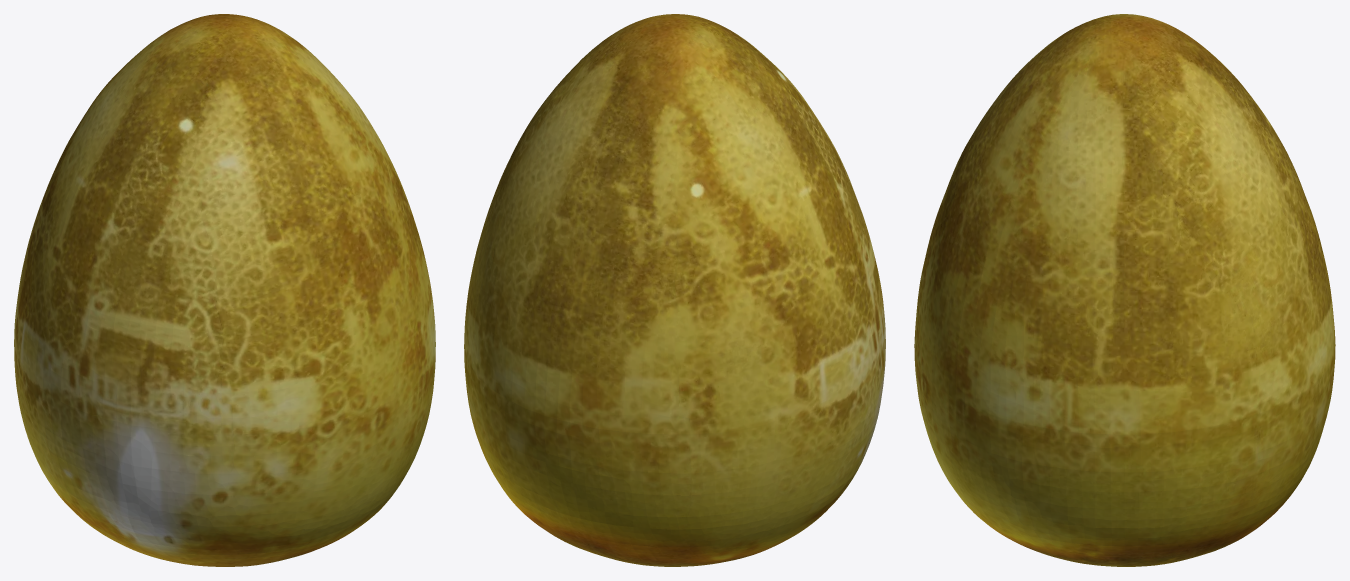
The picture shows the model from 3 angles, left to right: view 1: azimuth 30°, elevation 25°; view 2: azimuth 150°, elevation 25°; view 3: azimuth 270°, elevation 25°; orthographic projection.
Visible parts, largest first — view 1: geometry_0; view 2: geometry_0; view 3: geometry_0.
Boxes of the visible parts, x1,y1,x2,y2 form: geometry_0: [14, 14, 435, 566]; geometry_0: [464, 14, 885, 566]; geometry_0: [914, 14, 1335, 566].
Bounding box in the file's own units: 0.517 × 0.6998 × 0.5169.
1 material, 1 textured.
